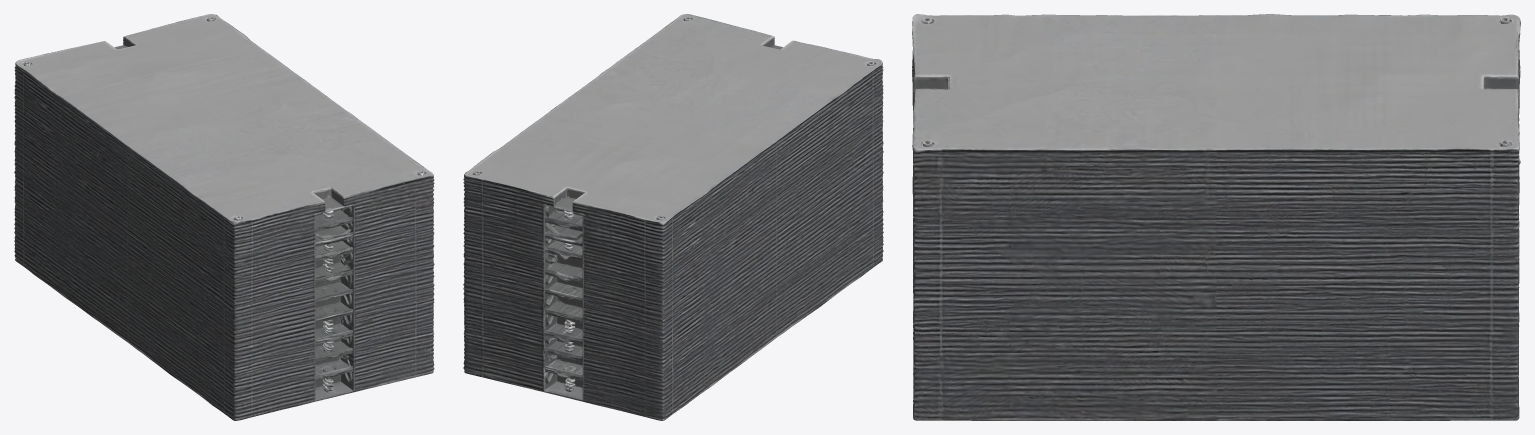
File: fuelcell.glb
3 views of the same model, side by side, from view 1: azimuth 30°, elevation 25°; view 2: azimuth 150°, elevation 25°; view 3: azimuth 270°, elevation 25° (orthographic). The views are drawn at different scales.
Visible parts, largest first — view 1: tripo_node_4ead1b76-268c-4907-ac04-9a909e8c8281; view 2: tripo_node_4ead1b76-268c-4907-ac04-9a909e8c8281; view 3: tripo_node_4ead1b76-268c-4907-ac04-9a909e8c8281.
Part boxes in pixels (box(x1,y1,x2,y2)): tripo_node_4ead1b76-268c-4907-ac04-9a909e8c8281: box(14, 14, 434, 420); tripo_node_4ead1b76-268c-4907-ac04-9a909e8c8281: box(463, 14, 883, 420); tripo_node_4ead1b76-268c-4907-ac04-9a909e8c8281: box(912, 14, 1520, 420).
Size of the model in its own units: 0.5142 by 0.4886 by 0.977.
1 material, 1 textured.
